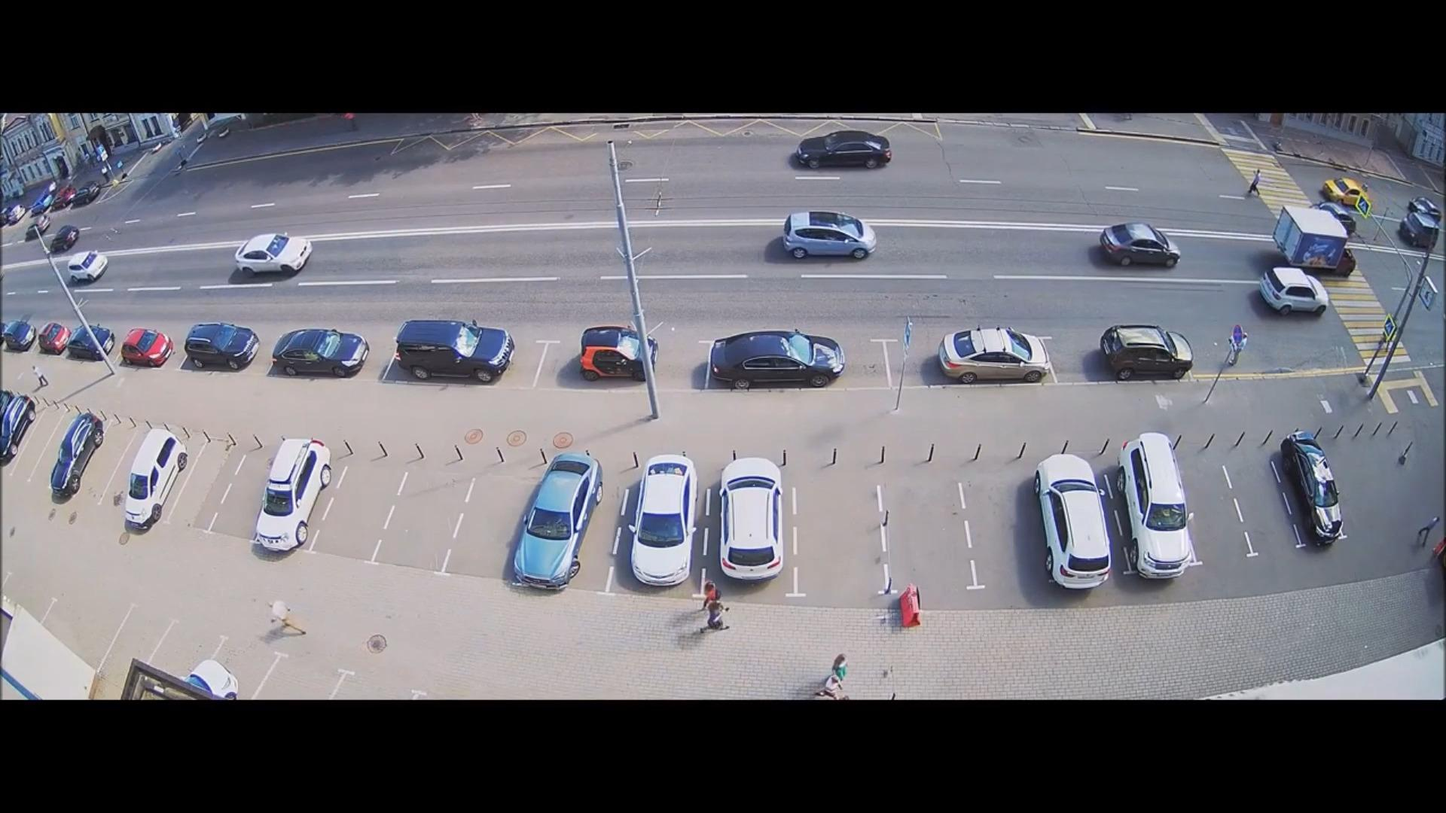free: (394, 464, 455, 577), (1202, 452, 1263, 564), (807, 479, 867, 592), (903, 483, 963, 596), (331, 453, 391, 566), (446, 456, 506, 569), (190, 438, 250, 551)
occupied: (512, 451, 605, 588), (1116, 433, 1195, 576), (1033, 454, 1110, 589), (628, 454, 698, 585), (254, 438, 334, 552), (716, 456, 785, 582), (392, 319, 516, 383), (710, 330, 842, 390), (1280, 431, 1347, 542), (123, 427, 190, 528), (936, 327, 1049, 385), (1100, 323, 1196, 380), (271, 327, 369, 378), (49, 415, 106, 501), (578, 323, 661, 382), (183, 321, 259, 369), (0, 391, 38, 463), (185, 659, 239, 700), (118, 327, 173, 367), (67, 323, 118, 361), (37, 322, 73, 355), (1, 320, 38, 352)
